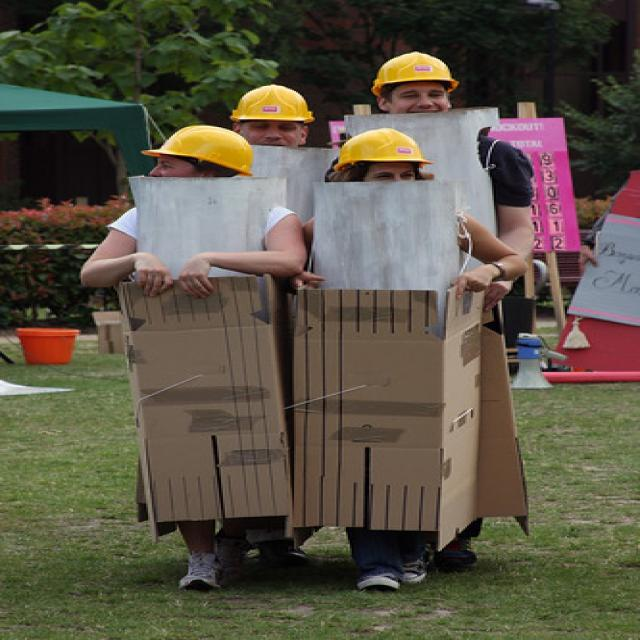Safety-Helmet: (138, 122, 255, 176), (330, 126, 430, 169), (367, 49, 459, 92), (225, 81, 317, 124)
